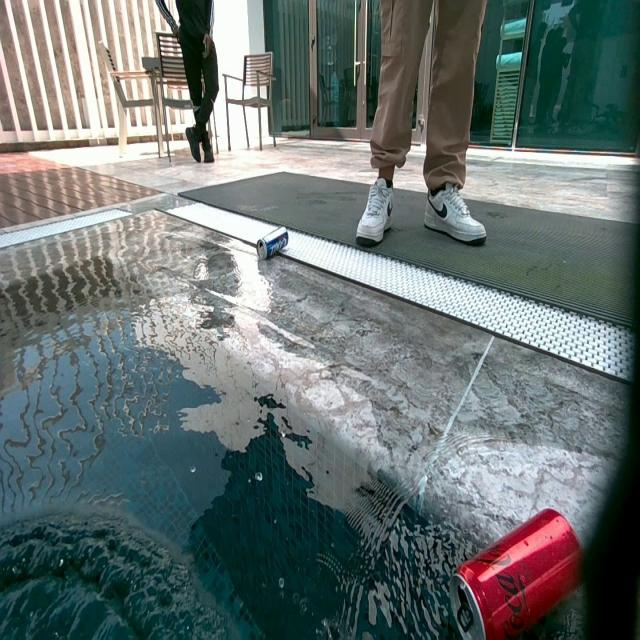Cans: (449, 506, 581, 638), (255, 230, 289, 259)
